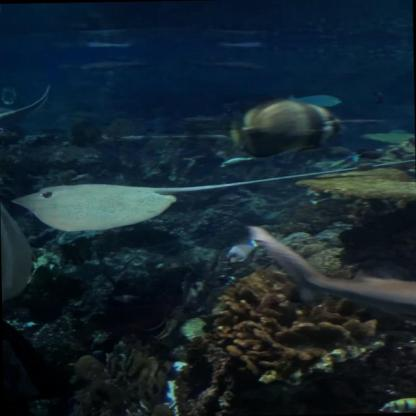fish: (229, 95, 346, 160), (0, 186, 43, 307), (285, 93, 345, 107)
shark: (249, 221, 416, 328)
stingray: (10, 182, 179, 232)
